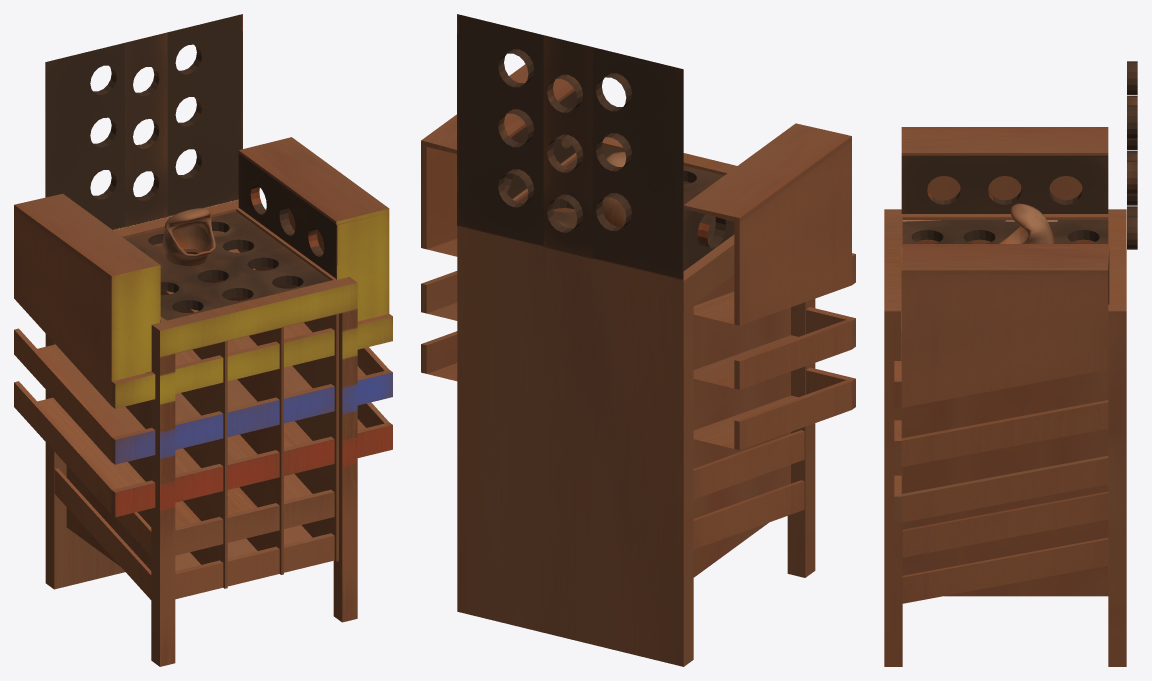
Rendered from RanaModel.fbx.
3 views of the same model, side by side, from view 1: azimuth 30°, elevation 25°; view 2: azimuth 150°, elevation 25°; view 3: azimuth 270°, elevation 25° (orthographic). The views are drawn at different scales.
Parts seen in each view (by area): view 1: BaseFrog, HolesBack, HolesA, HolesAB, HeadFrog; view 2: BaseFrog, HolesBack, HolesAC, HolesA, HolesAB, HeadFrog; view 3: BaseFrog, HolesAC, HolesA, HolesBack, HeadFrog.
Boxes of the visible parts, <box> form: BaseFrog: <box>14,137,392,666</box>; HolesBack: <box>45,14,242,230</box>; HolesA: <box>125,211,330,320</box>; HolesAB: <box>238,153,336,278</box>; HeadFrog: <box>162,208,216,266</box>; BaseFrog: <box>421,64,855,666</box>; HolesBack: <box>457,14,683,280</box>; HolesAC: <box>683,209,734,270</box>; HolesA: <box>517,145,723,242</box>; HolesAB: <box>504,91,577,198</box>; HeadFrog: <box>602,152,626,226</box>; BaseFrog: <box>884,127,1126,666</box>; HolesAC: <box>901,155,1108,213</box>; HolesA: <box>902,220,1108,244</box>; HolesBack: <box>1127,61,1137,249</box>; HeadFrog: <box>999,203,1054,243</box>.
Bounding box in the file's own units: 83.84 × 150 × 62.61.
